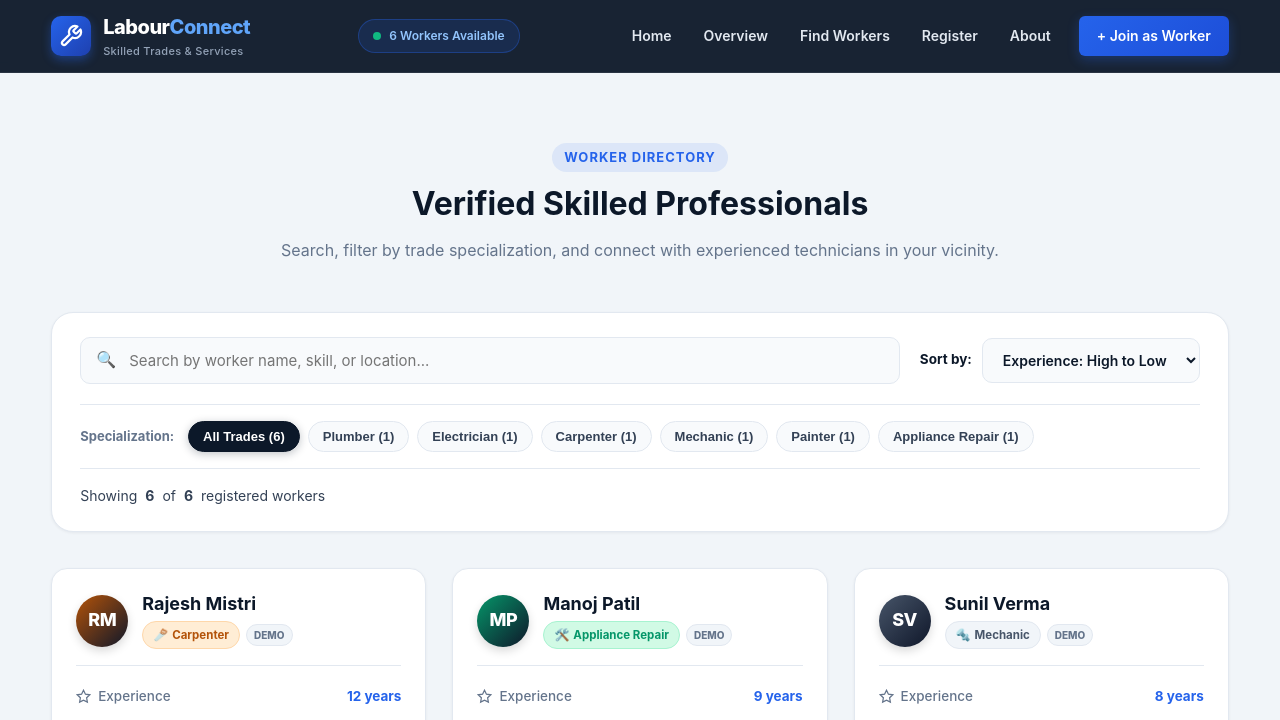
Test: Labour Connect Web Application › filters workers by search query and shows empty state when no match
The width and height of the screenshot is (1280, 720).
(page scrolled)
Step 1. Type "NonExistentLocationXYZ" into the field with placeholder "Search by worker name, skill, or location..." → (490, 360), box x1=80 y1=336 x2=900 y2=384
(page scrolled)
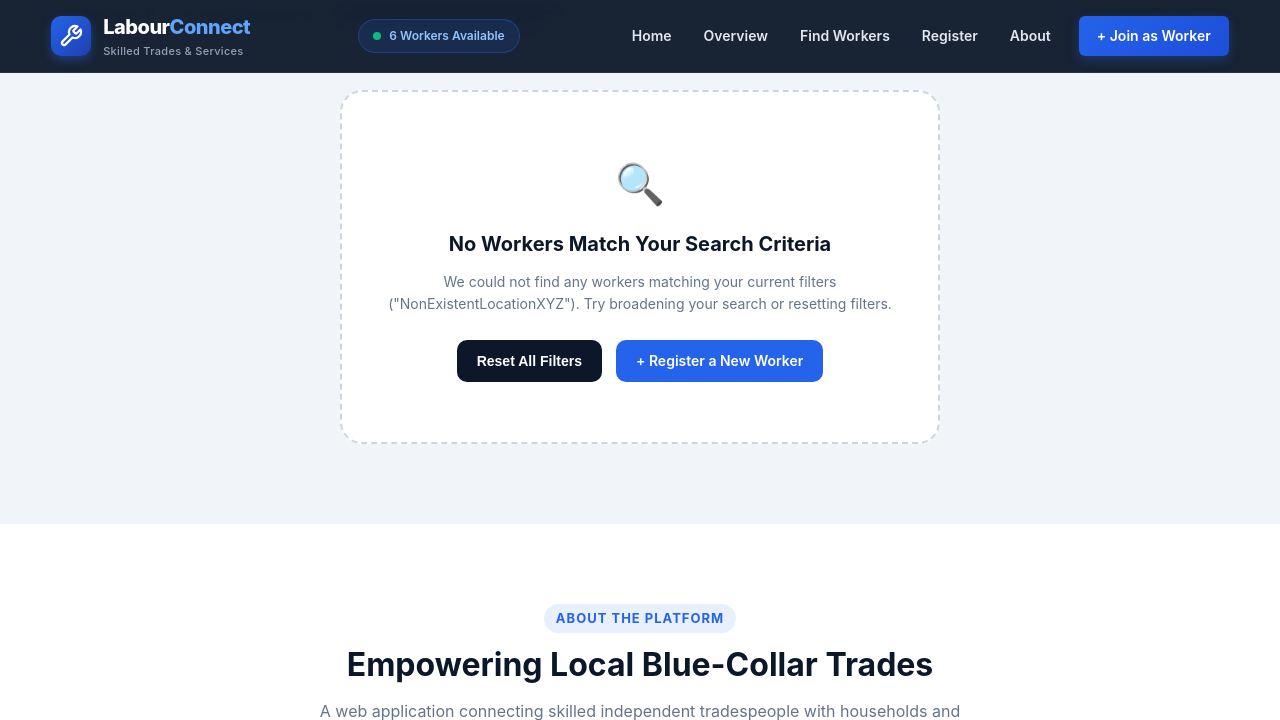
expect the heading "No Workers Match Your Search Criteria" is shown: met, box x1=449 y1=232 x2=831 y2=256
Step 2. Click the button "Reset All Filters" → (529, 361), box x1=457 y1=340 x2=602 y2=382
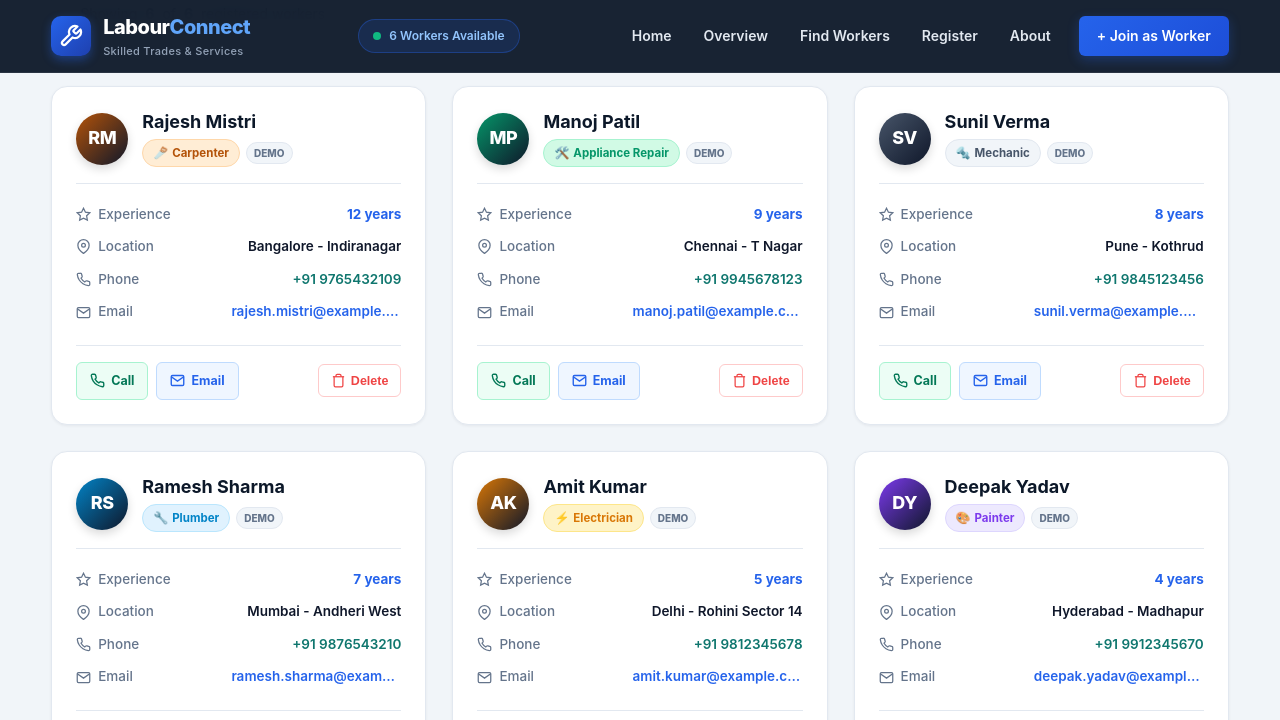
expect the heading "No Workers Match Your Search Criteria" is gone: met
